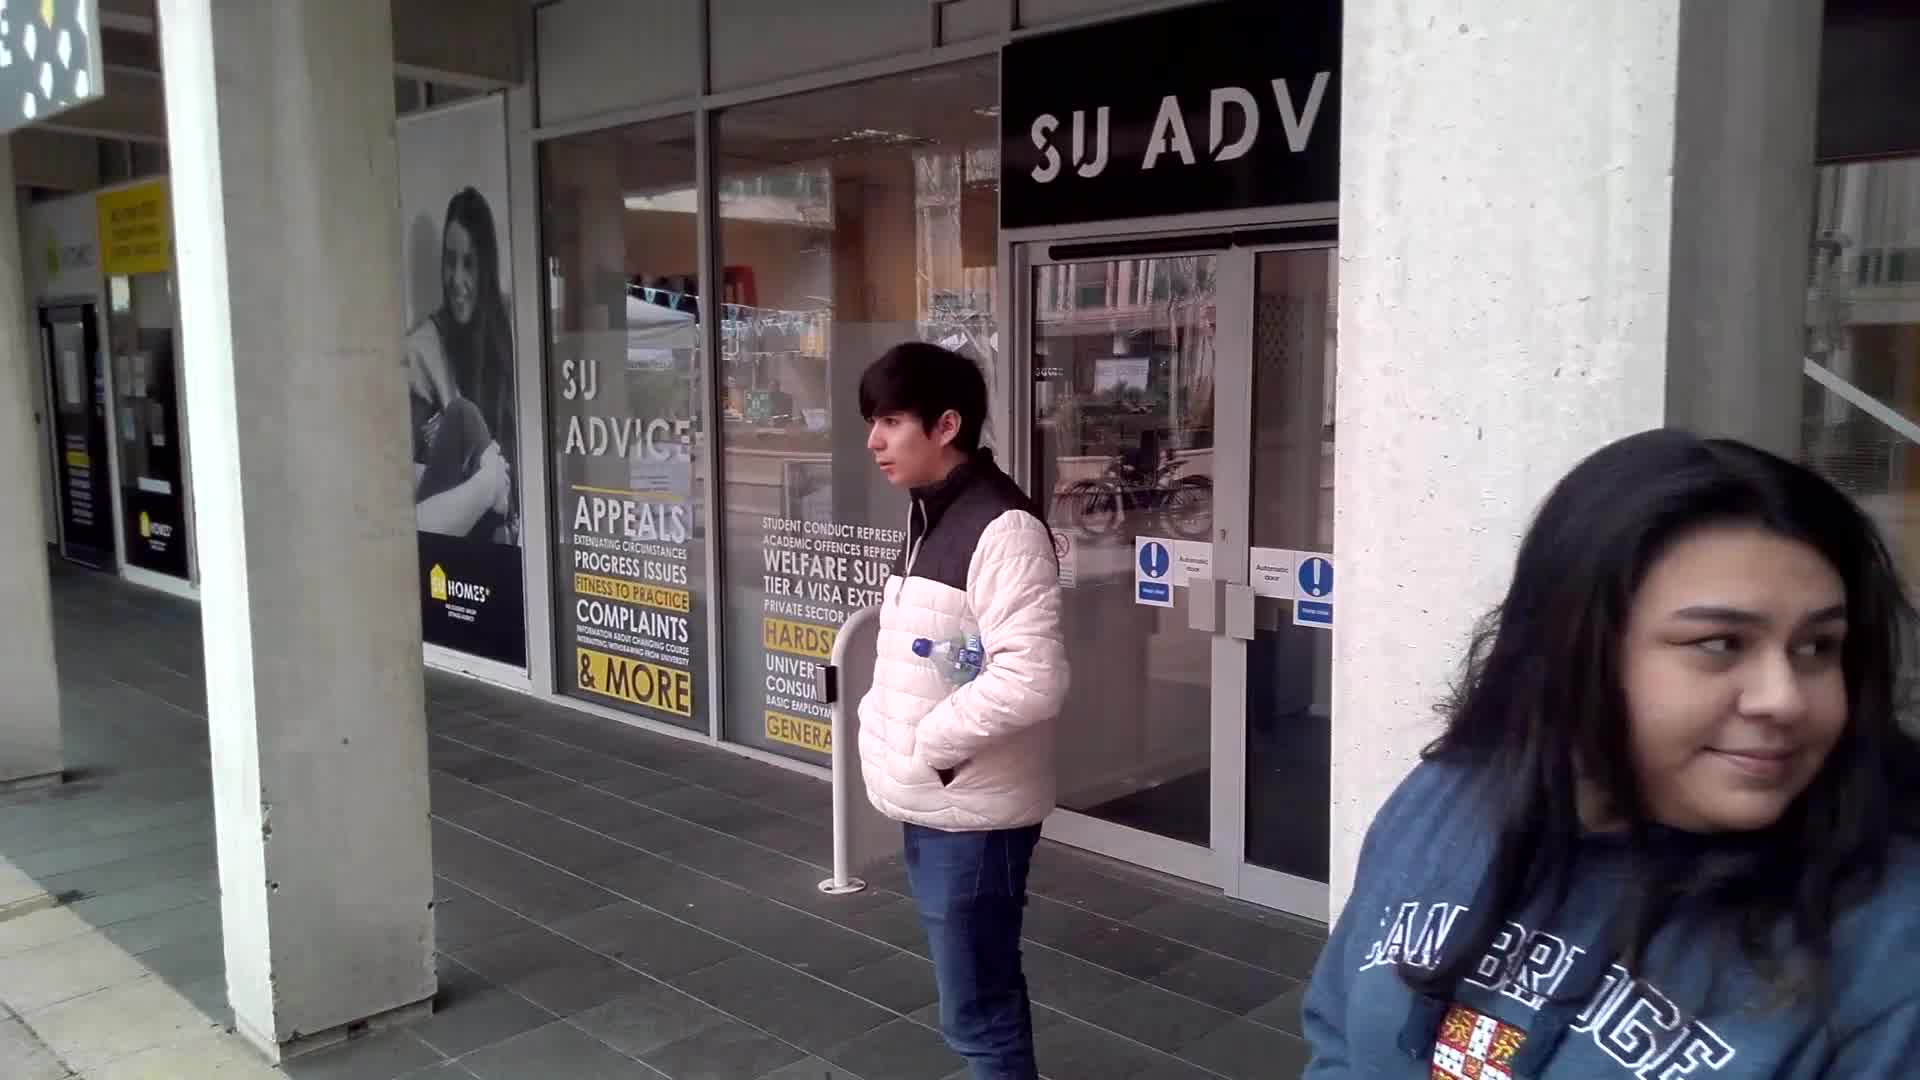Person: (1420, 414, 1920, 1080), (849, 349, 1074, 1080)
